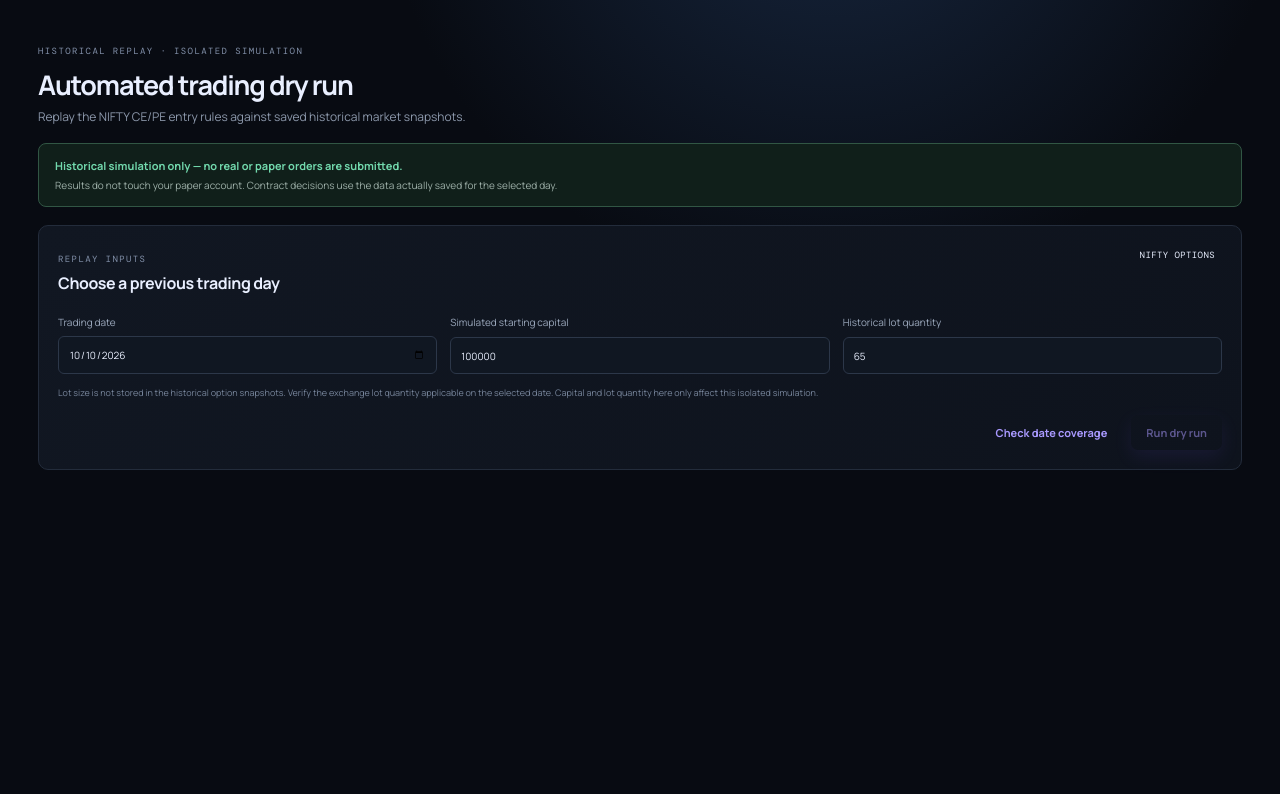
it: PaperDryRunPage › blocks replay when historical option or futures data is missing
Click the button "Check date coverage".
click(1051, 433)  # box x1=981 y1=415 x2=1122 y2=450
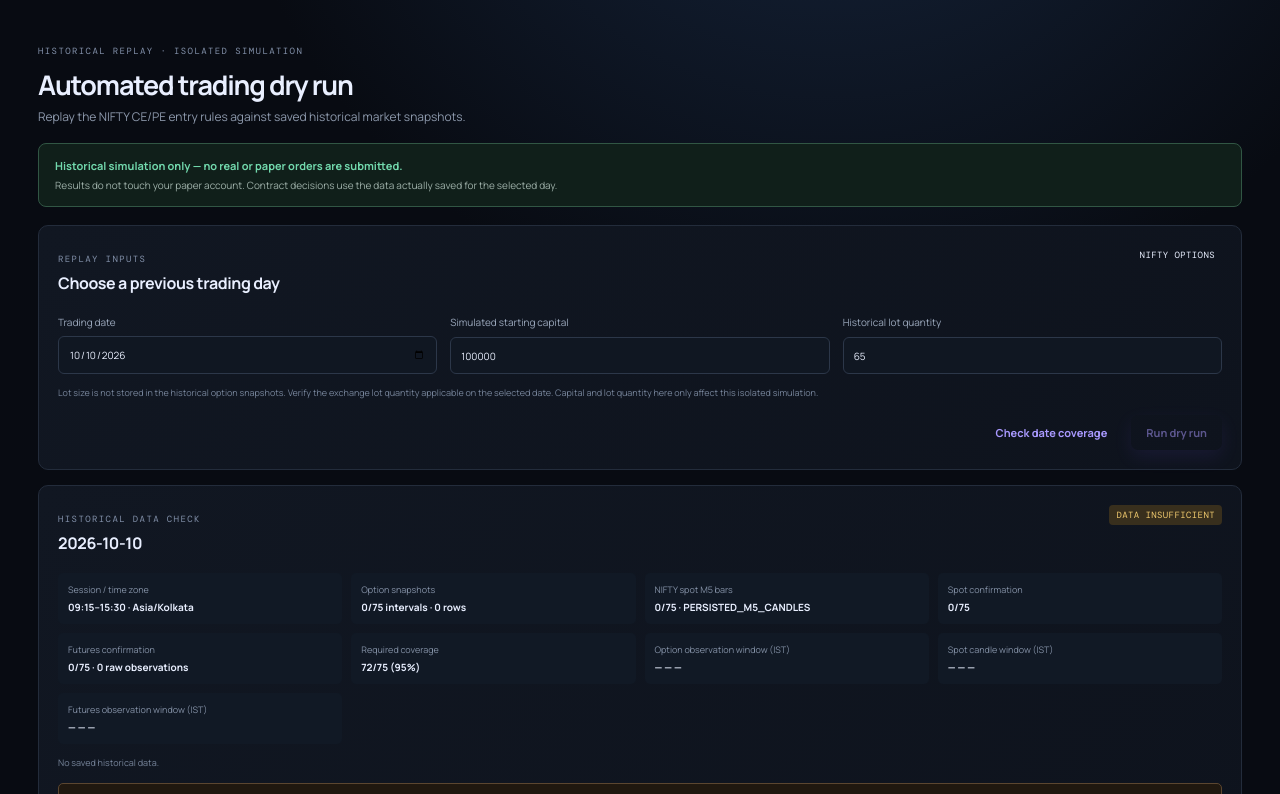
Now the text "DATA INSUFFICIENT" is shown, box x1=1109 y1=505 x2=1222 y2=525
Now the text "No saved historical data." is shown, box x1=58 y1=756 x2=159 y2=769
